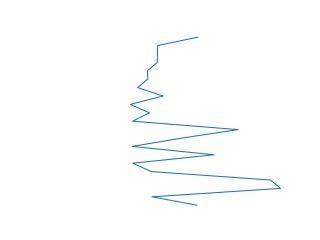crevasseRiverBedLagDeposit: (125, 33, 284, 209)
